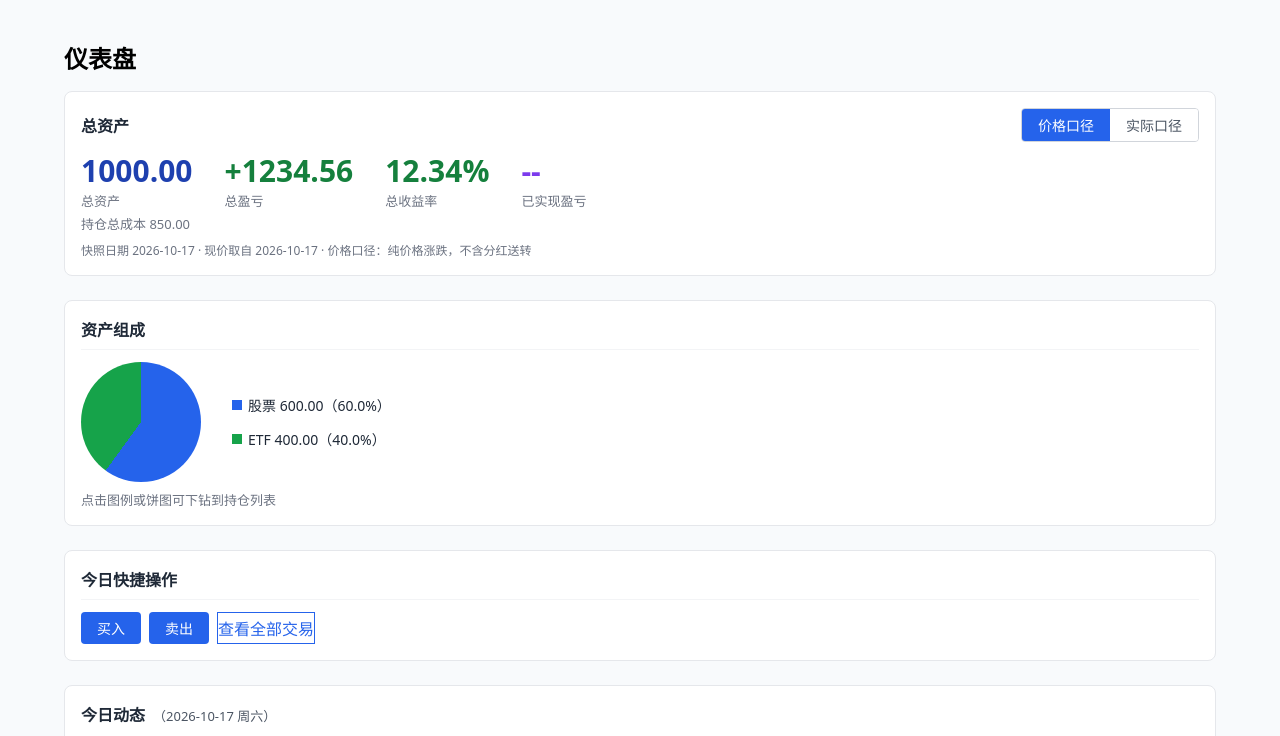
Test: F-D6 · 资产组成饼图点击下钻 › F-D6 饼图下钻：过滤状态有可见反馈且可一键清除
The image size is (1280, 736).
Check: the text "总盈亏" is shown, box [224, 192, 264, 210]
Check: the text "已按「股票」筛选持仓" is not shown
Click the button "股票 600.00（60.0%）": (311, 405) [225, 392, 398, 418]
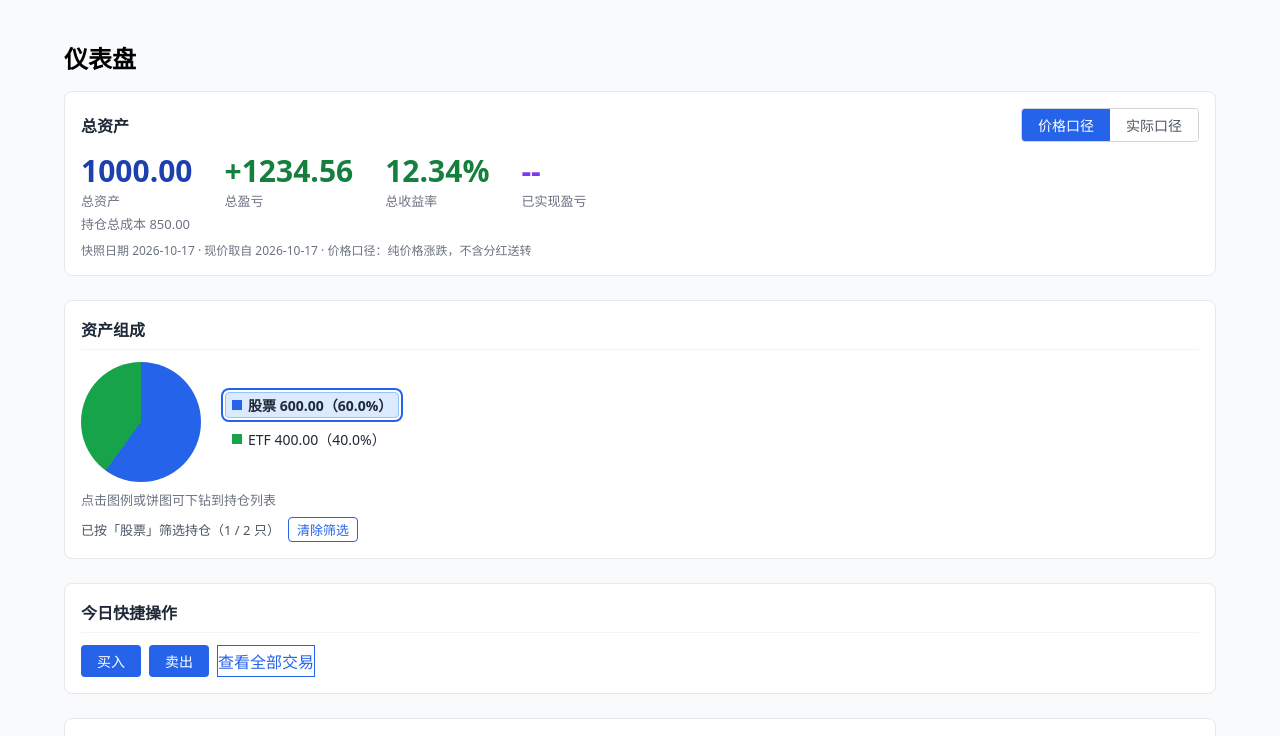
Check: the text "已按「股票」筛选持仓（1 / 2 只）" is shown, box [81, 520, 280, 539]
Click the button "清除筛选": (323, 530) [288, 517, 358, 542]
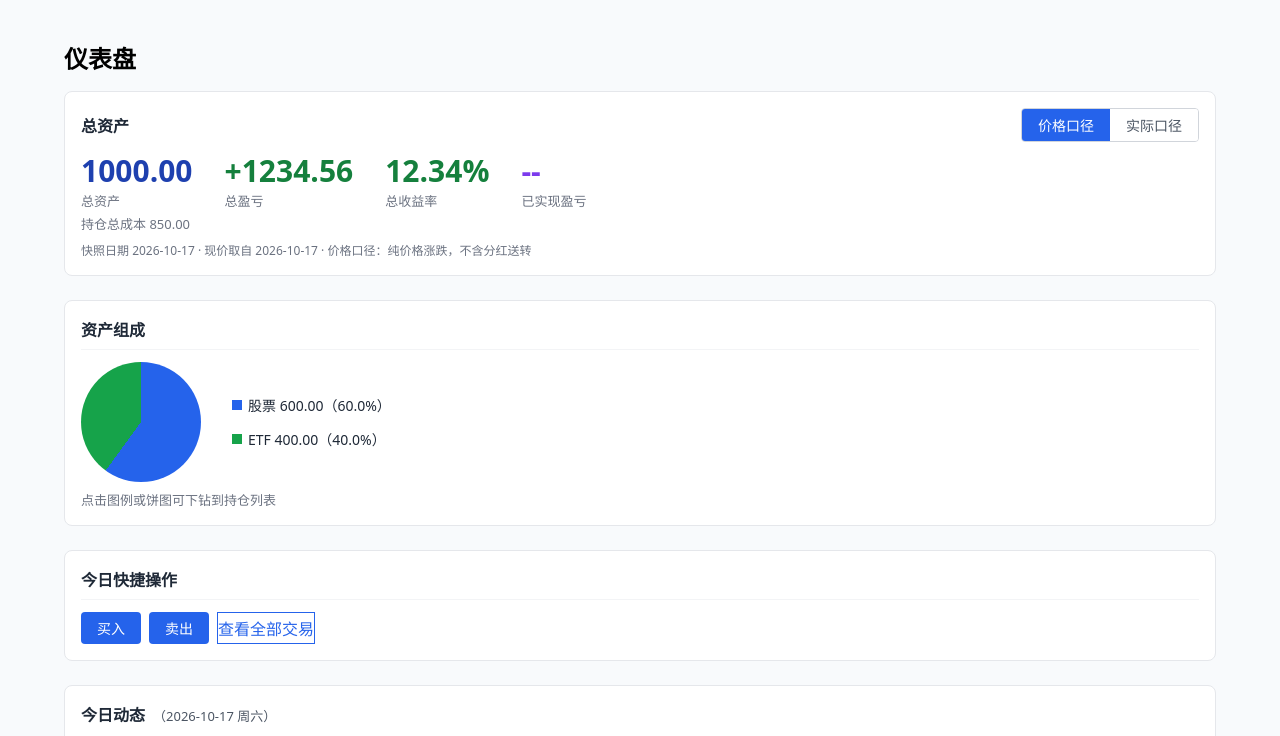
Check: the text "已按「股票」筛选持仓" is gone
